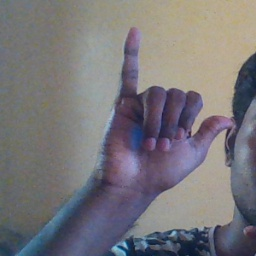J: (98, 27, 233, 187)
